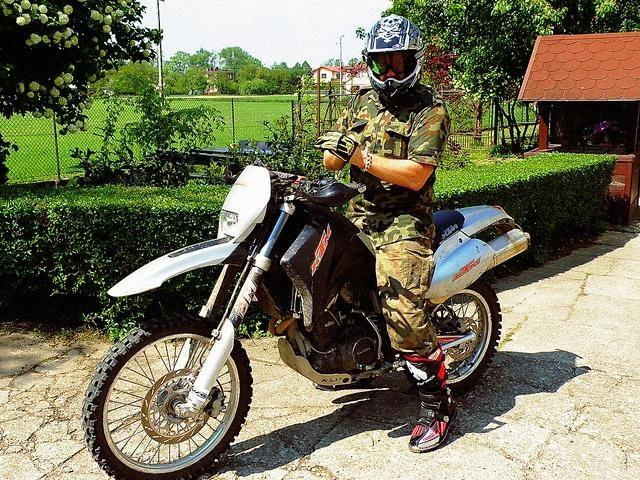motorcycle: (80, 160, 532, 465)
